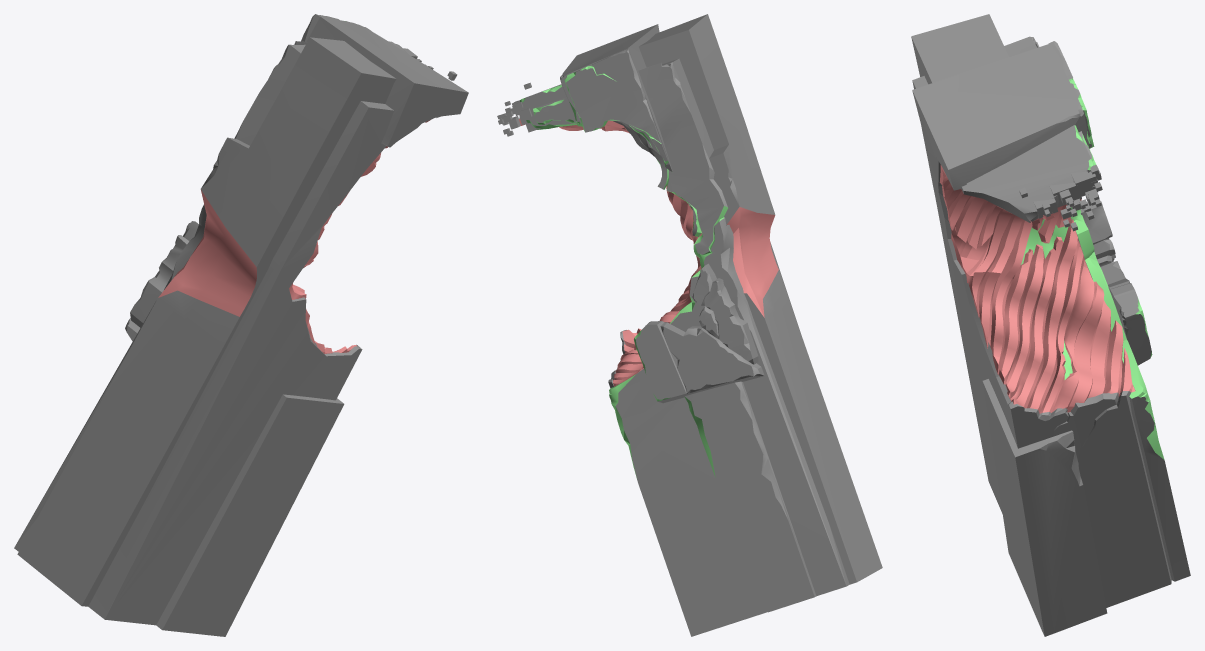
Rendered from S_Envi_FZFBase_Rough_01b.gltf.
3 views of the same model, side by side, from view 1: azimuth 30°, elevation 25°; view 2: azimuth 150°, elevation 25°; view 3: azimuth 270°, elevation 25° (orthographic). The views are drawn at different scales.
Parts seen in each view (by area): view 1: S_Envi_FZFBase_Rough_01b; view 2: S_Envi_FZFBase_Rough_01b; view 3: S_Envi_FZFBase_Rough_01b.
Boxes of the visible parts, left/top/right/bottom form: S_Envi_FZFBase_Rough_01b: left=14, top=14, right=468, bottom=636; S_Envi_FZFBase_Rough_01b: left=497, top=14, right=882, bottom=636; S_Envi_FZFBase_Rough_01b: left=911, top=14, right=1190, bottom=636.
Bounding box in the file's own units: 161 × 227 × 88.08.
